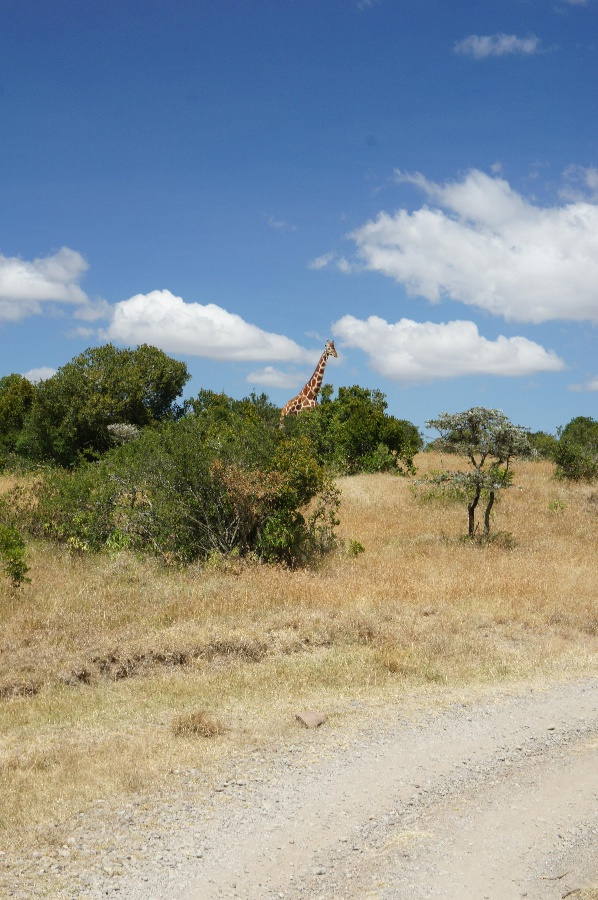giraffe: (283, 342, 340, 417)
